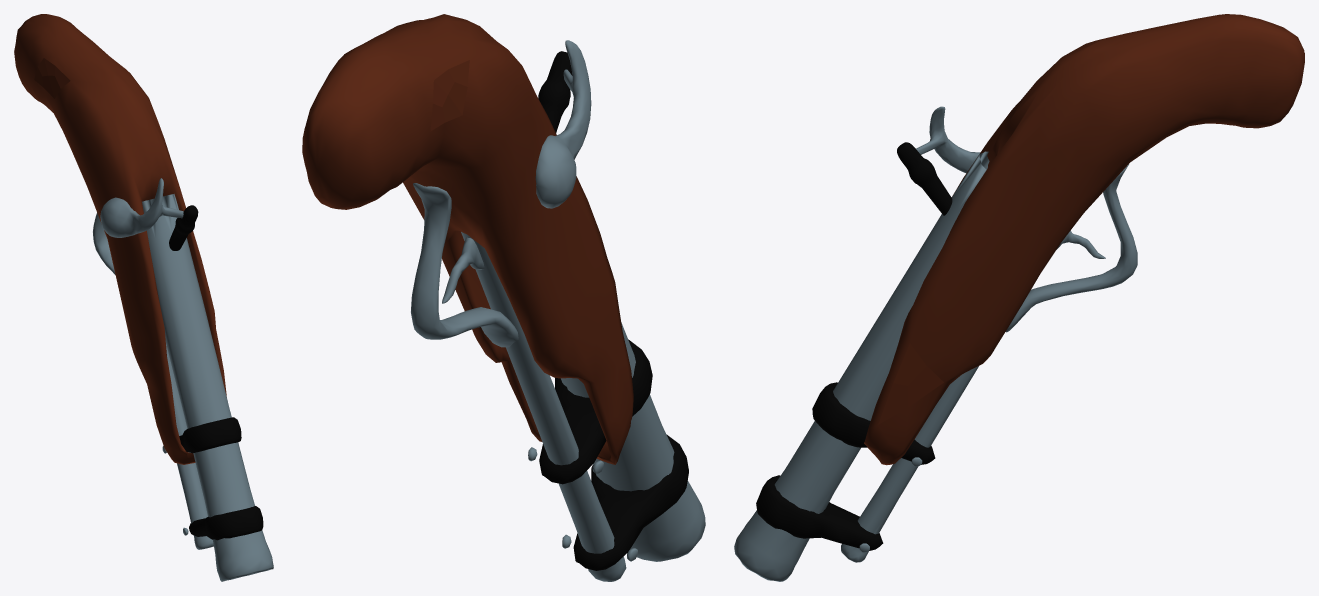
The model's file is gun.obj.
3 renders of one model, left to right at view 1: azimuth 30°, elevation 25°; view 2: azimuth 150°, elevation 25°; view 3: azimuth 270°, elevation 25°, orthographic. The views are drawn at different scales.
Visible parts, largest first — view 1: gun; view 2: gun; view 3: gun.
Part boxes in pixels (left/top/right/bottom): gun: left=14, top=14, right=273, bottom=581; gun: left=302, top=14, right=705, bottom=581; gun: left=734, top=14, right=1304, bottom=581.
Size of the model in its own units: 0.1804 by 0.9662 by 0.9006.
